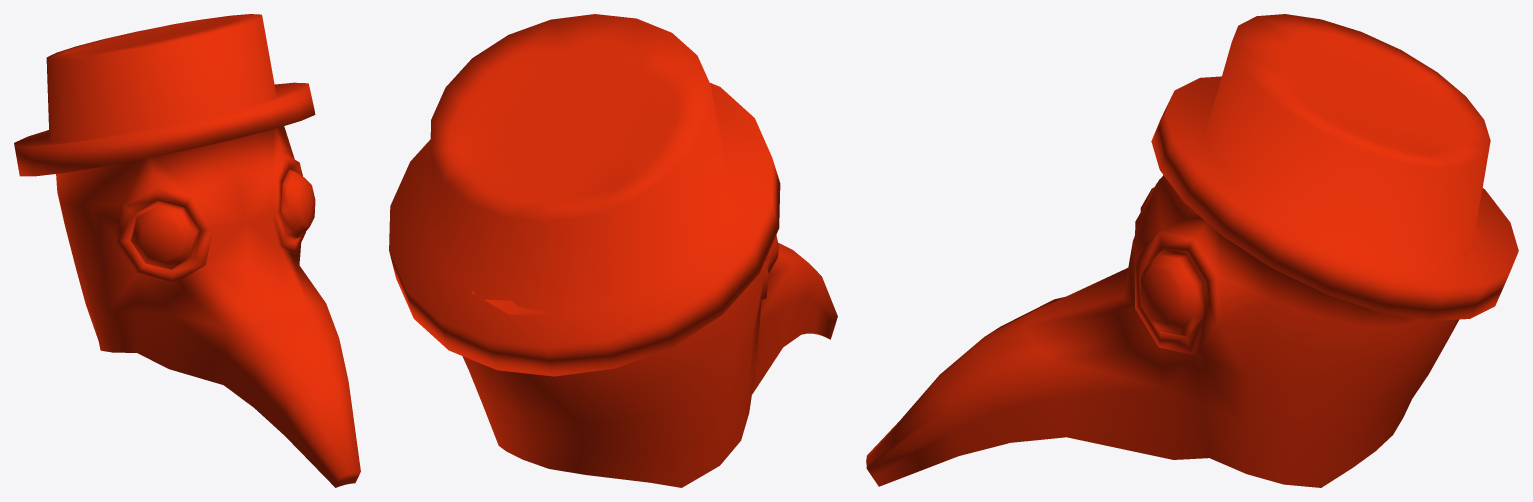
The model's file is Pestenoire.fbx.
3 renders of one model, left to right at view 1: azimuth 30°, elevation 25°; view 2: azimuth 150°, elevation 25°; view 3: azimuth 270°, elevation 25°, orthographic. The views are drawn at different scales.
Parts seen in each view (by area): view 1: Peste Noire; view 2: Peste Noire; view 3: Peste Noire.
Boxes of the visible parts, x1,y1,x2,y2 form: Peste Noire: [14, 14, 360, 487]; Peste Noire: [389, 14, 837, 487]; Peste Noire: [866, 14, 1518, 487].
Size of the model in its own units: 76.18 by 95.57 by 129.
